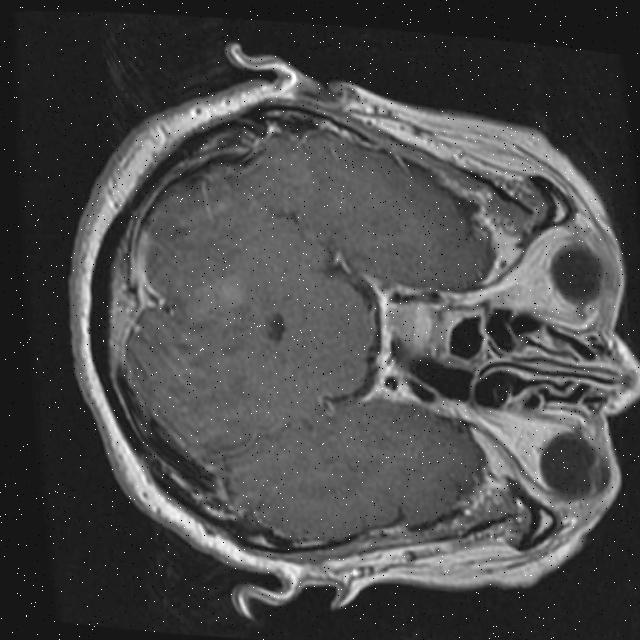Pituitary: (386, 299, 449, 359)
